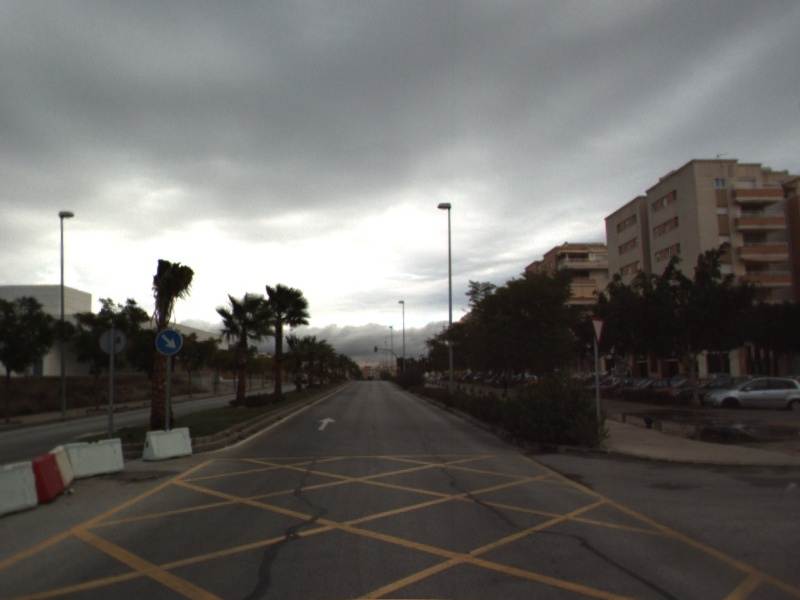STRAIGHT: (315, 415, 338, 432)
